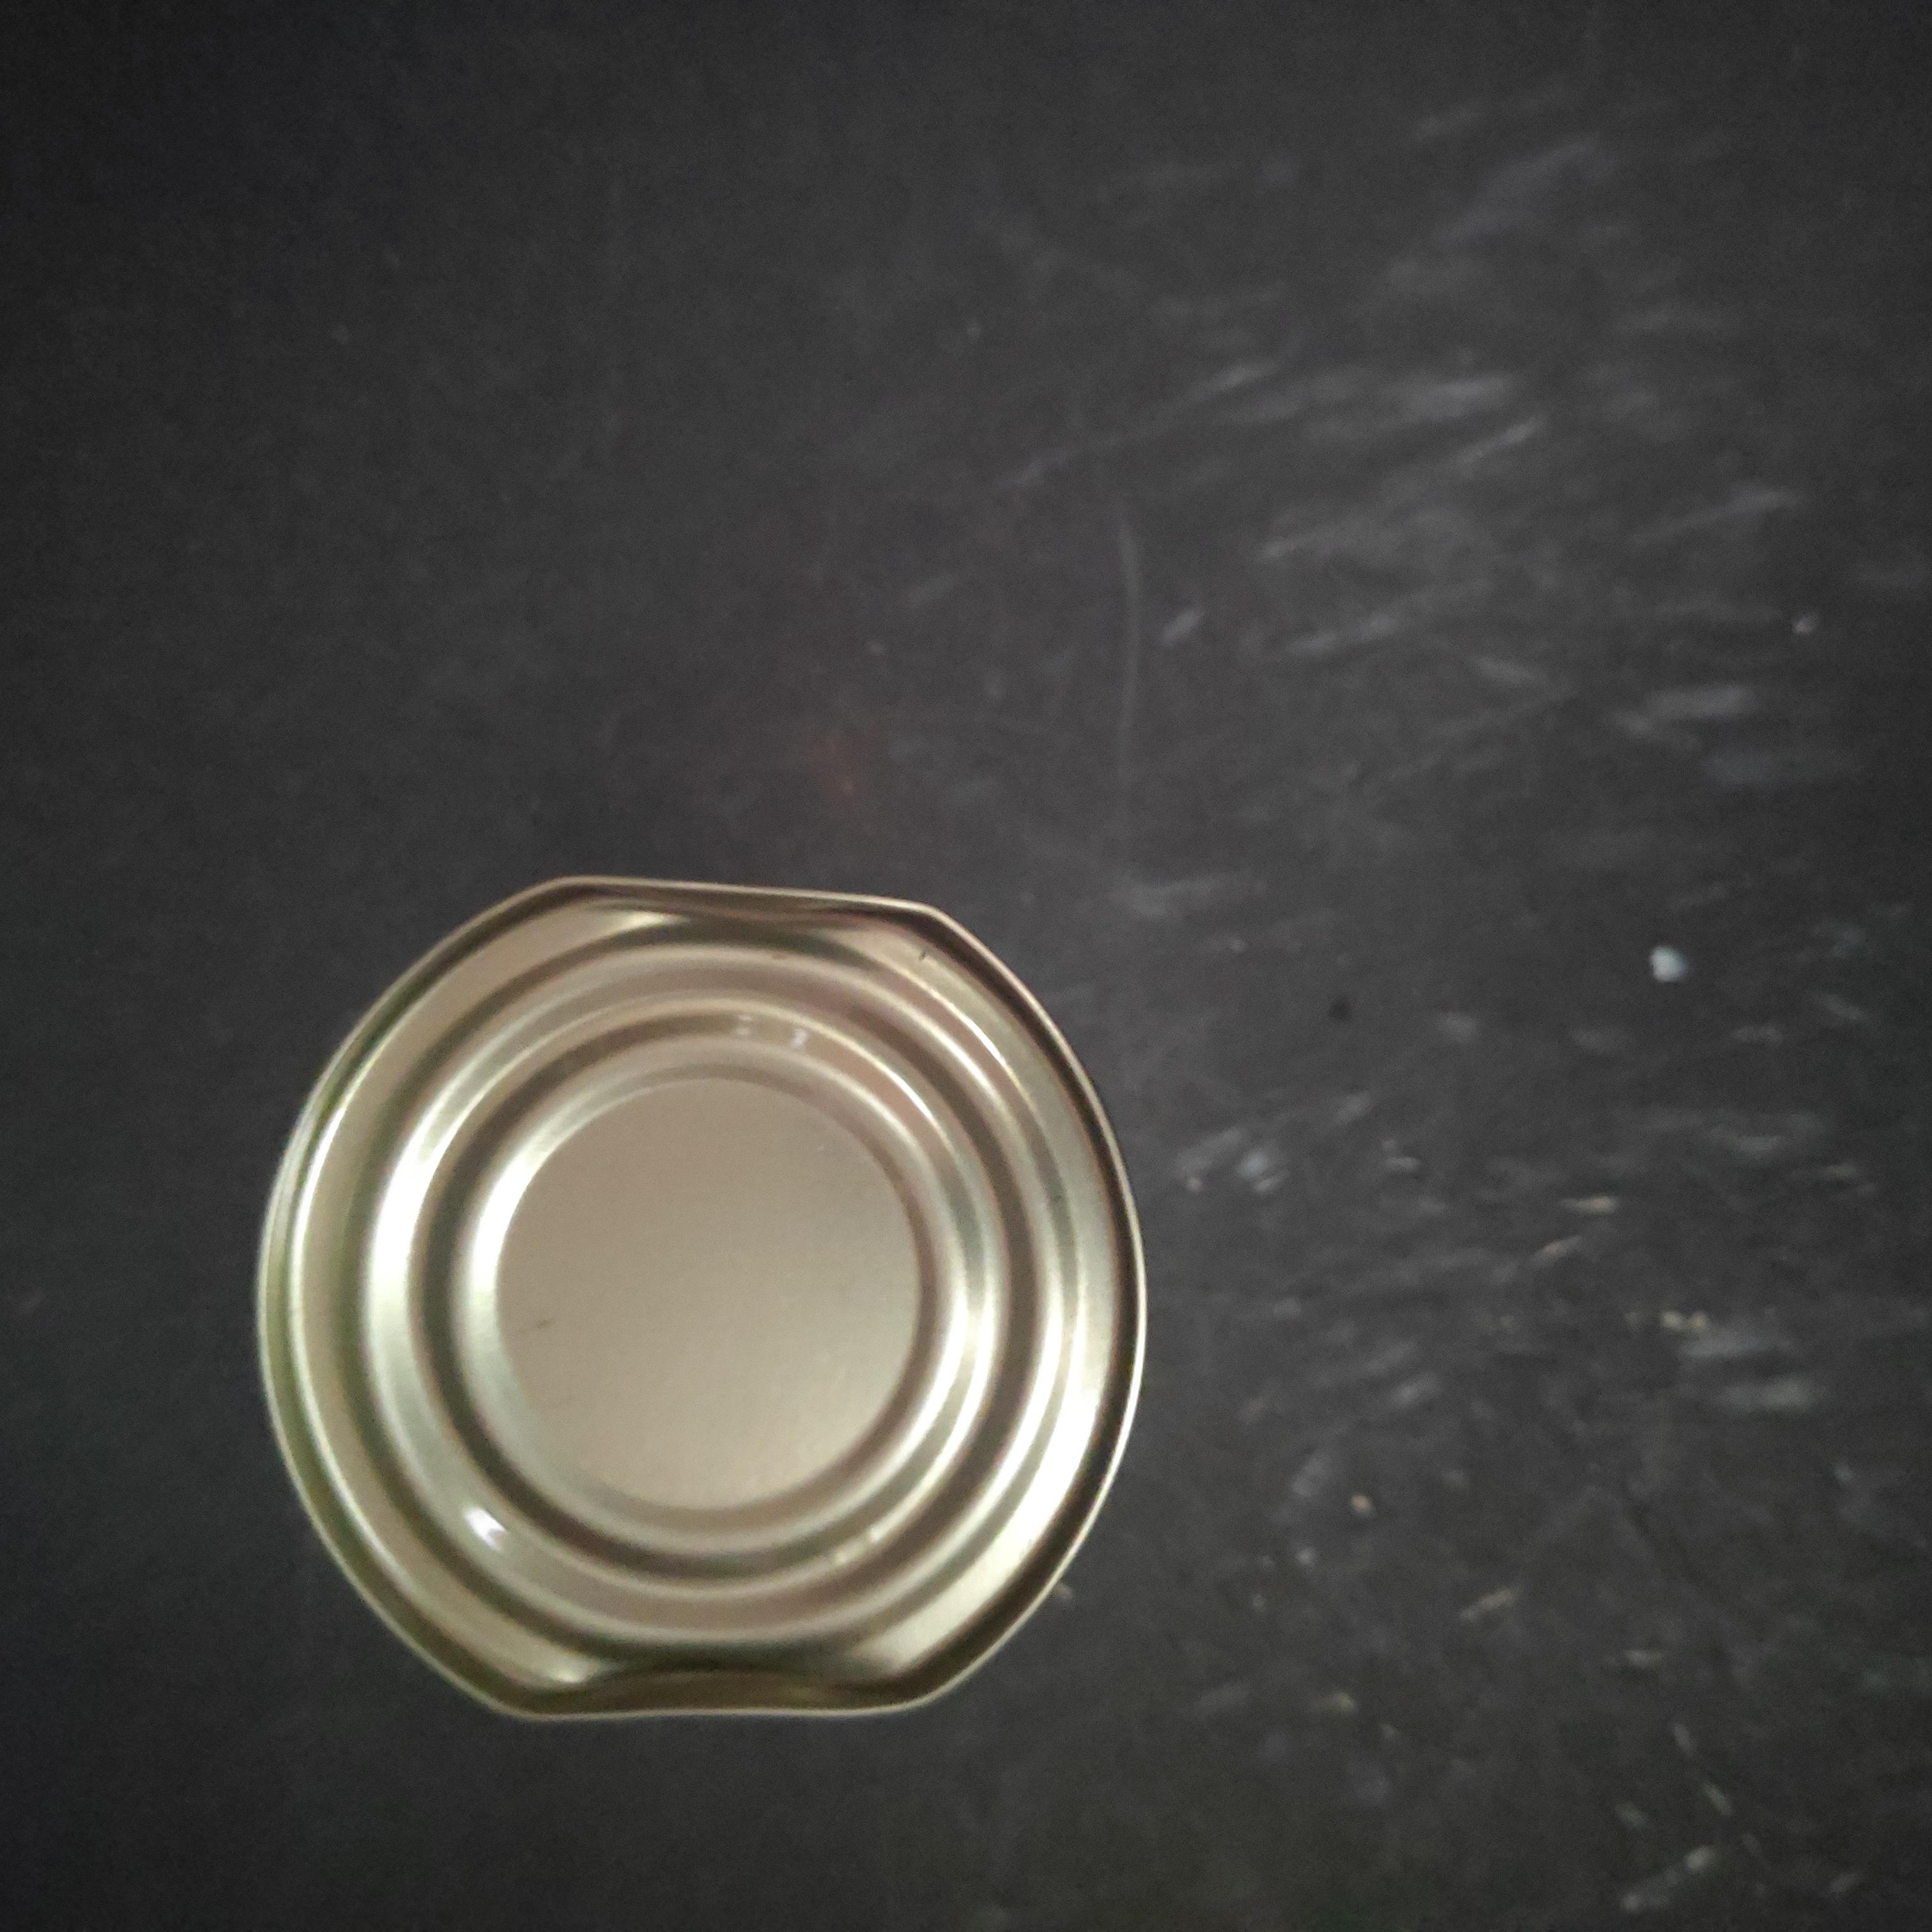Minor Defect: (775, 202, 1697, 1076)
